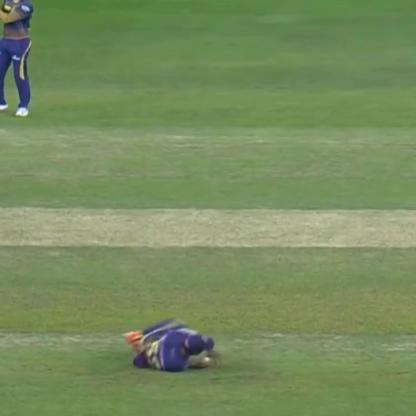ball: (200, 354, 213, 365)
